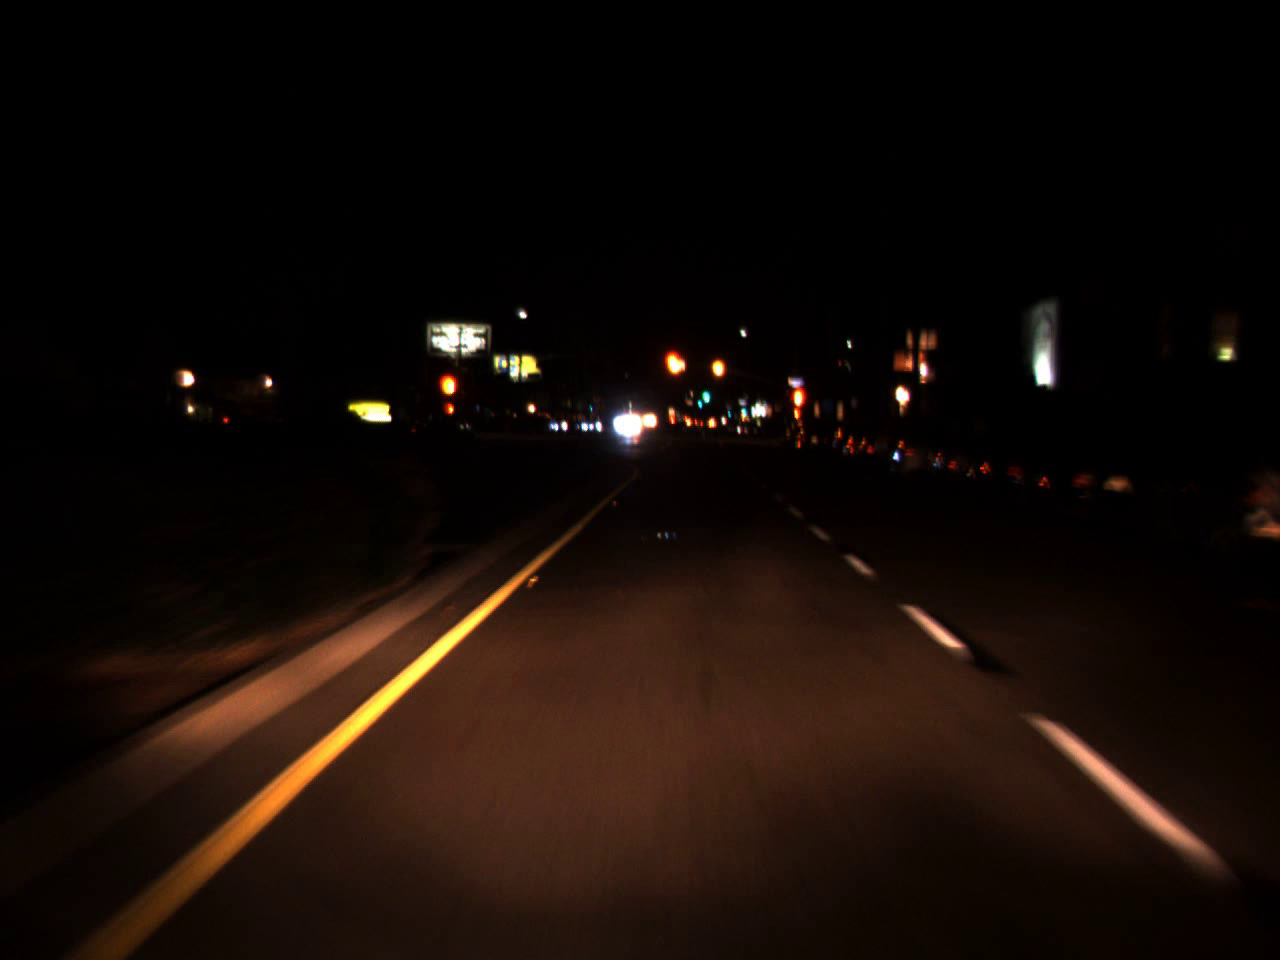go: (695, 390, 702, 411), (701, 381, 708, 402), (739, 404, 746, 416)
warning: (662, 334, 686, 389), (437, 362, 459, 404), (710, 349, 726, 386), (791, 379, 804, 414)
